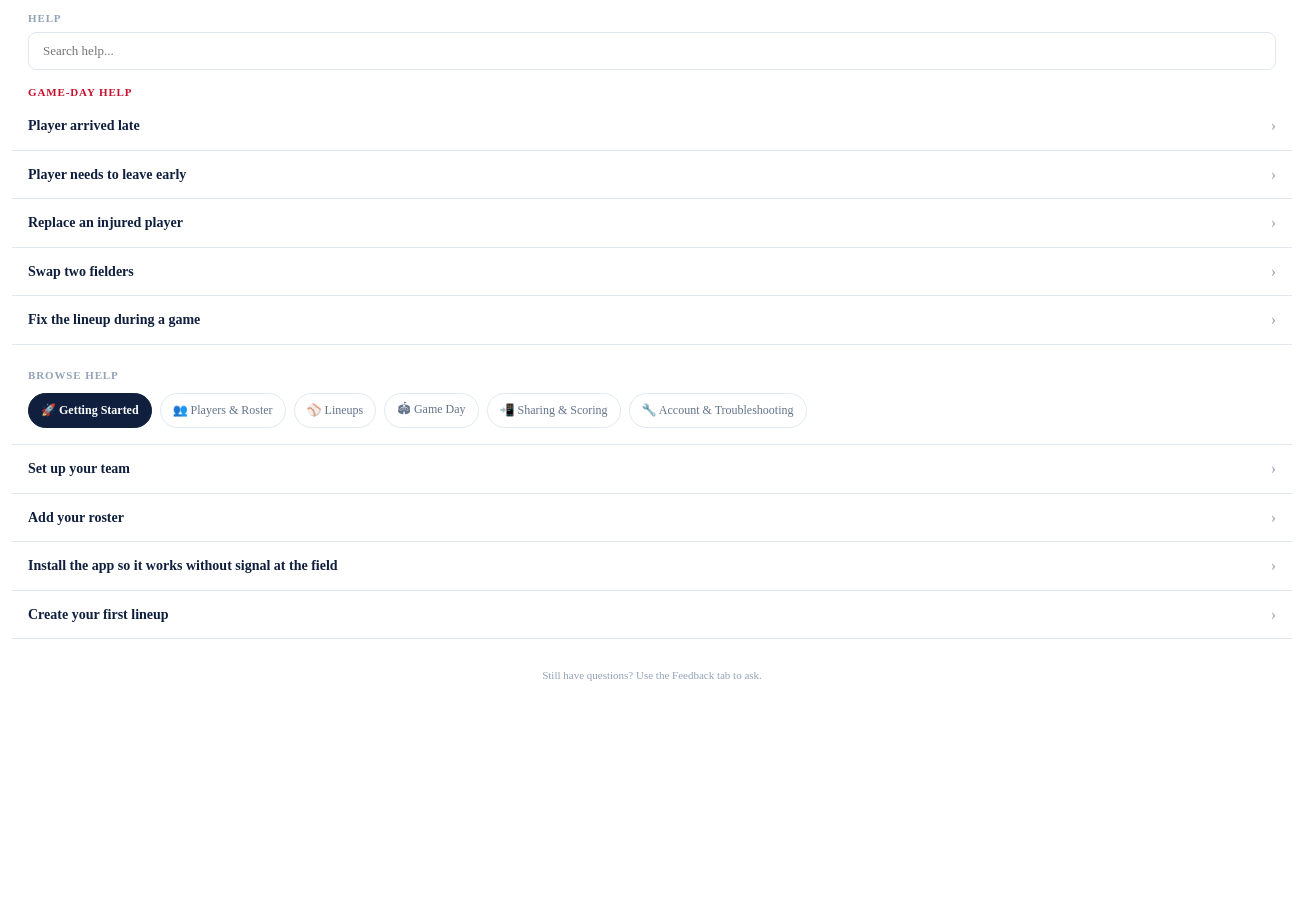
it: FAQSection — Help redesign › search › H10: a query matching nothing shows the zero-results message
Type "zzzznomatchzzzz" into the search field with placeholder "Search help..." at (652, 51), box [28, 32, 1276, 70]
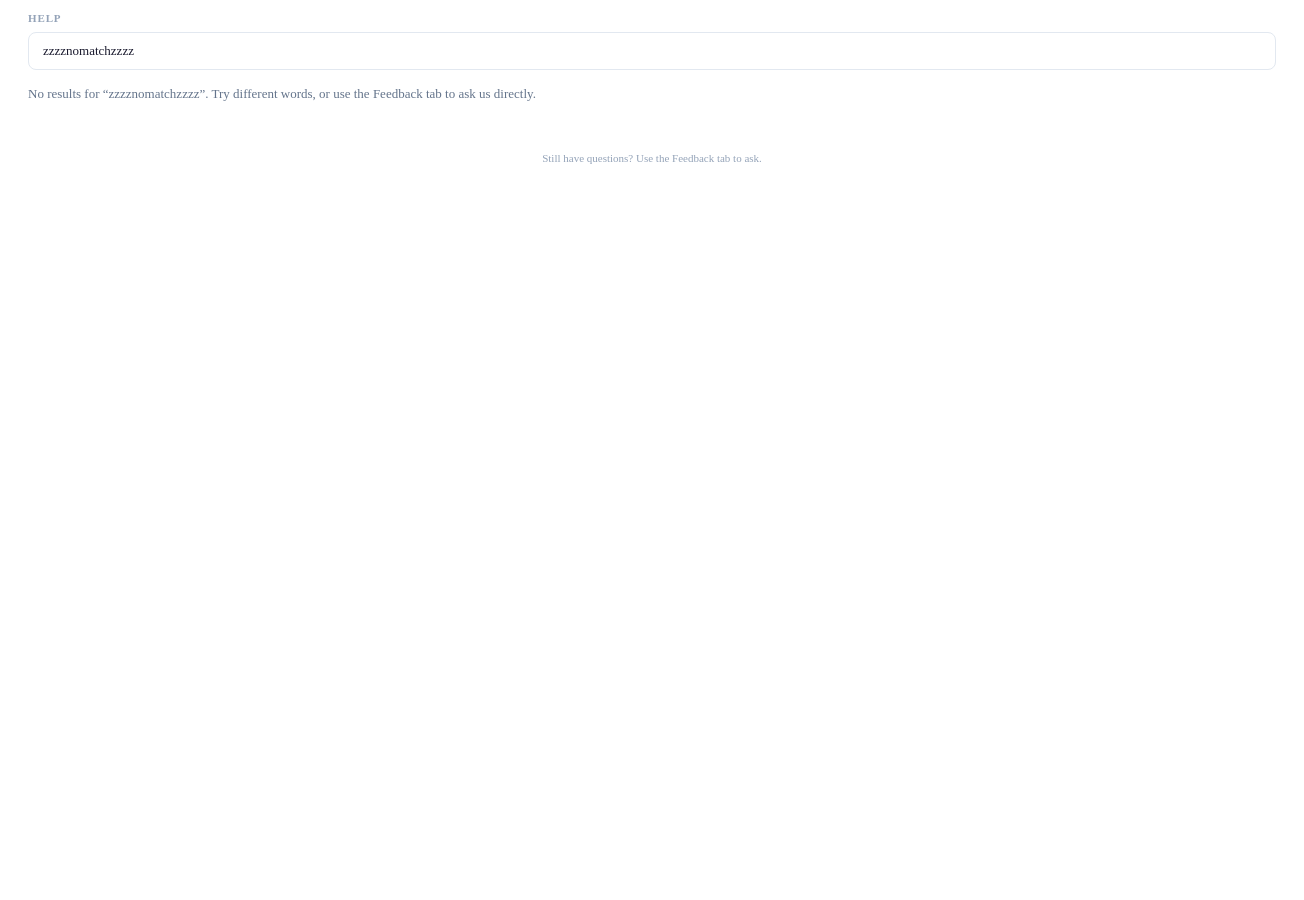
expect the text "No results for" is shown: met, box [28, 86, 108, 101]
